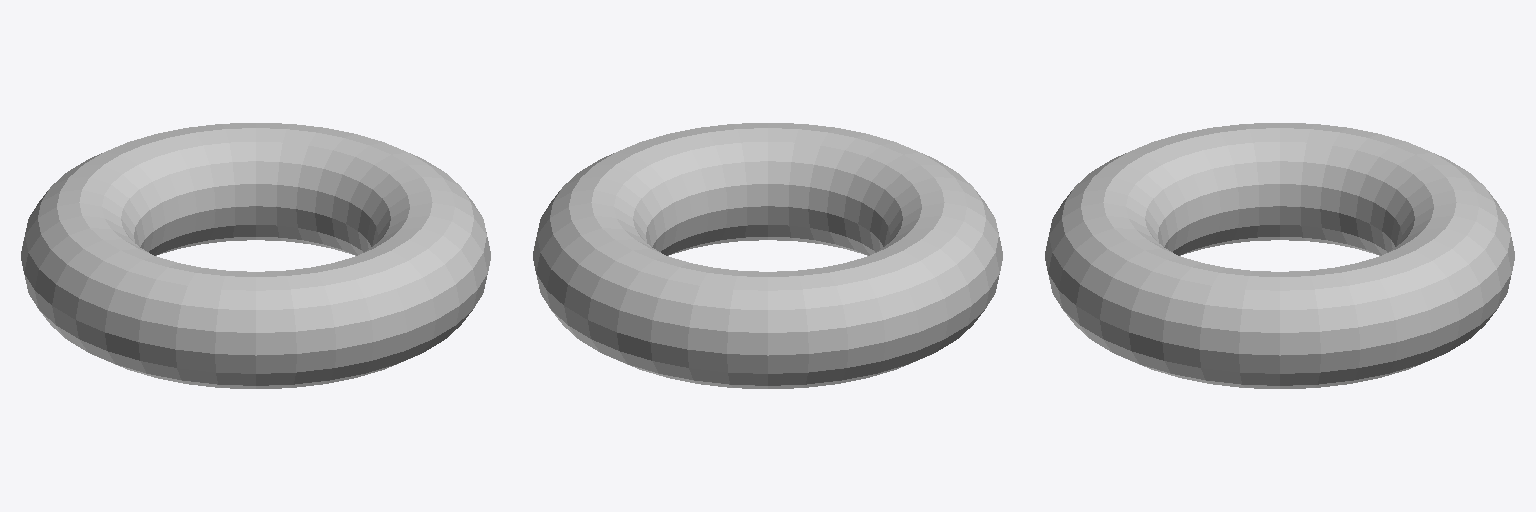
Rendered from tiny_torus.obj.
3 views of the same model, side by side, from view 1: azimuth 30°, elevation 25°; view 2: azimuth 150°, elevation 25°; view 3: azimuth 270°, elevation 25° (orthographic).
Bounding box in the file's own units: 0.16 × 0.04 × 0.16.